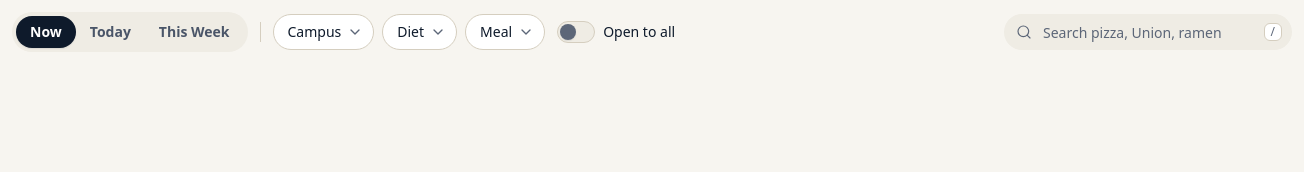
Scenario: FilterBar › open to all: explains itself and can add unspecified events, off by default
Check: the text "Only events whose listing says they're open." is not shown
Step 1. Click the switch named "Open to all" → (576, 32), box left=557, top=21, right=595, bottom=43
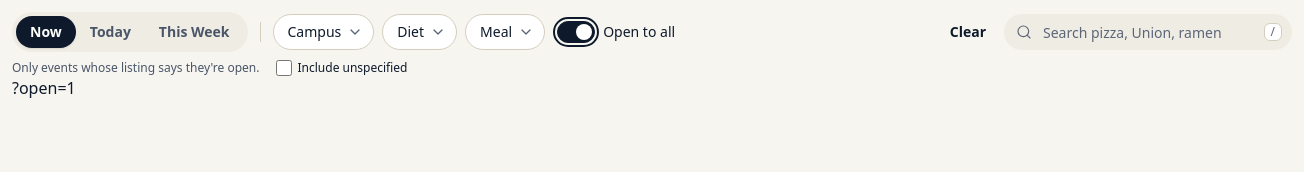
Check: the text "Only events whose listing says they're open." is shown, box left=12, top=60, right=260, bottom=76
Check: the checkbox labelled "Include unspecified" is not checked
Check: the text with test id "search" reads "?open=1", box left=12, top=77, right=76, bottom=99
Step 2. Click the checkbox labelled "Include unspecified" → (284, 68), box left=276, top=60, right=292, bottom=76
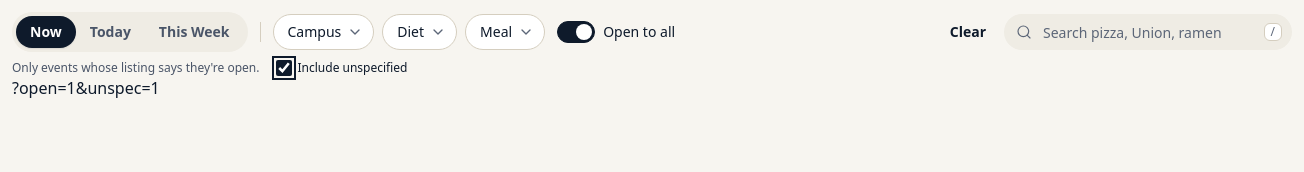
Check: the text with test id "search" reads "?open=1&unspec=1", box left=12, top=77, right=160, bottom=99
Note: Turning "open to all" off drops the choice with it.
Step 3. Click the switch named "Open to all" → (576, 32), box left=557, top=21, right=595, bottom=43
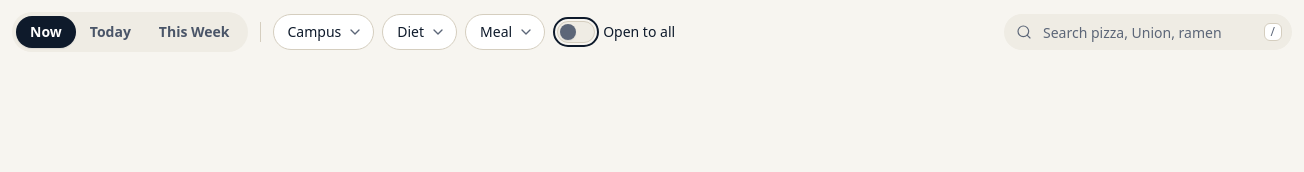
Check: the label "Include unspecified" is gone
